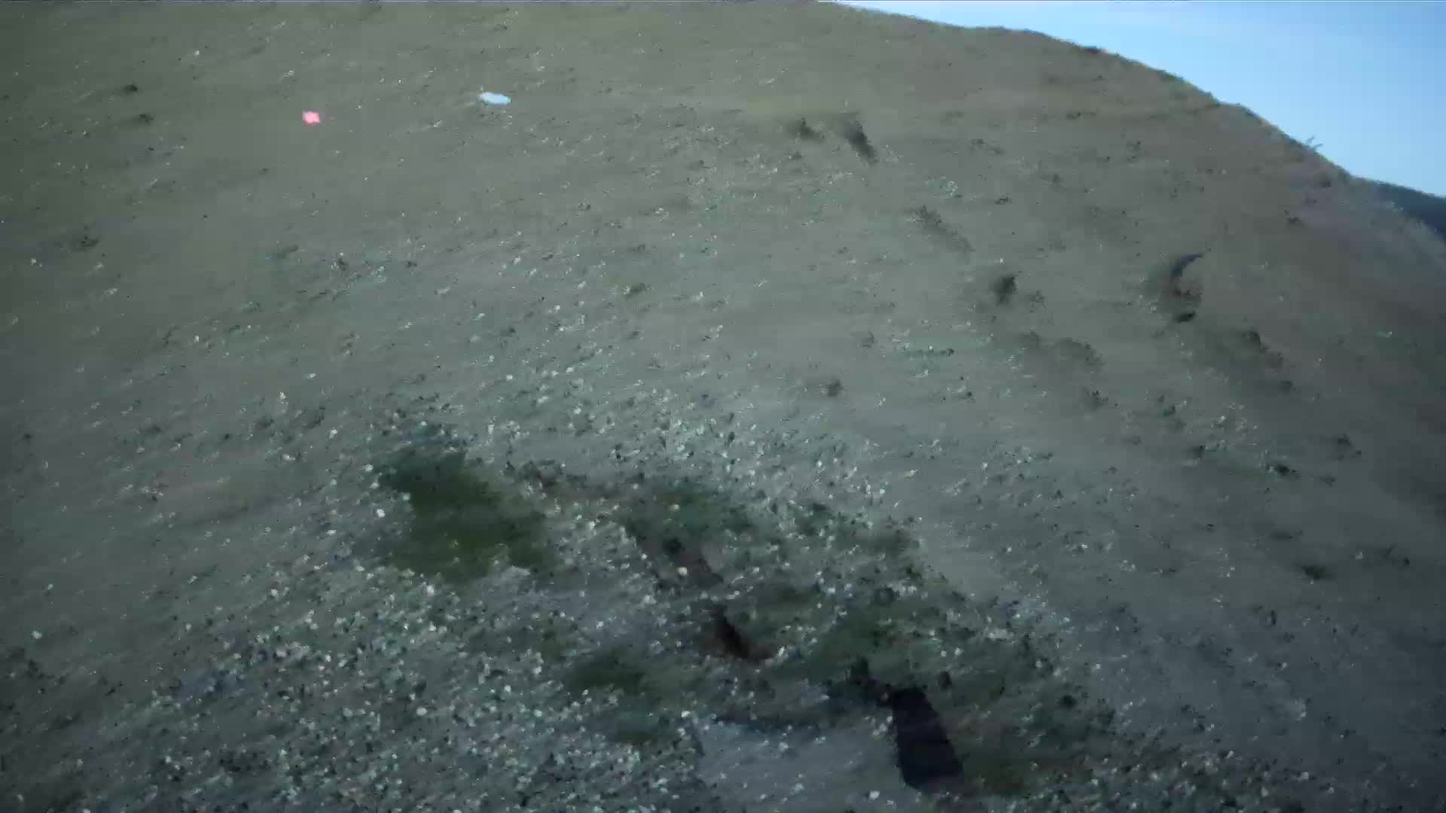Target: (474, 90, 518, 106)
